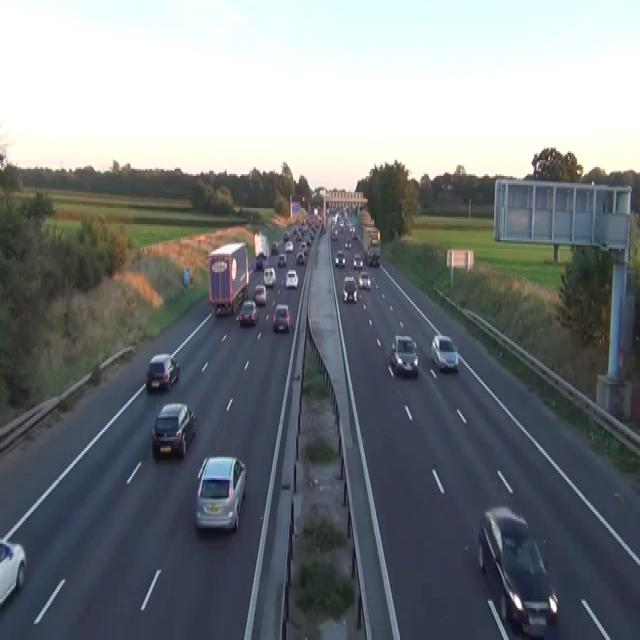Car: (477, 505, 558, 638), (194, 455, 246, 532), (151, 402, 197, 458), (0, 539, 26, 606), (145, 352, 180, 391), (390, 332, 418, 377), (430, 334, 458, 372), (236, 299, 259, 325), (272, 304, 290, 331), (342, 276, 357, 302), (253, 282, 266, 306), (285, 268, 298, 288), (358, 270, 371, 290), (263, 267, 276, 286), (334, 249, 346, 267), (353, 252, 363, 268), (368, 251, 379, 265), (277, 252, 286, 266), (255, 256, 263, 270), (299, 240, 307, 254), (296, 251, 304, 263), (285, 240, 293, 251), (344, 238, 352, 249), (271, 240, 278, 252), (331, 228, 338, 240), (349, 224, 355, 235), (283, 231, 289, 240), (351, 230, 357, 238), (313, 206, 318, 215)
Truck: (206, 240, 249, 315), (363, 226, 380, 265), (253, 230, 269, 270)
